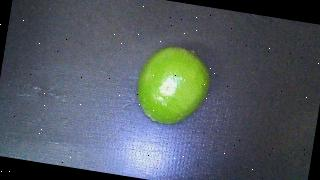EXPORTACION: (133, 42, 215, 130)
